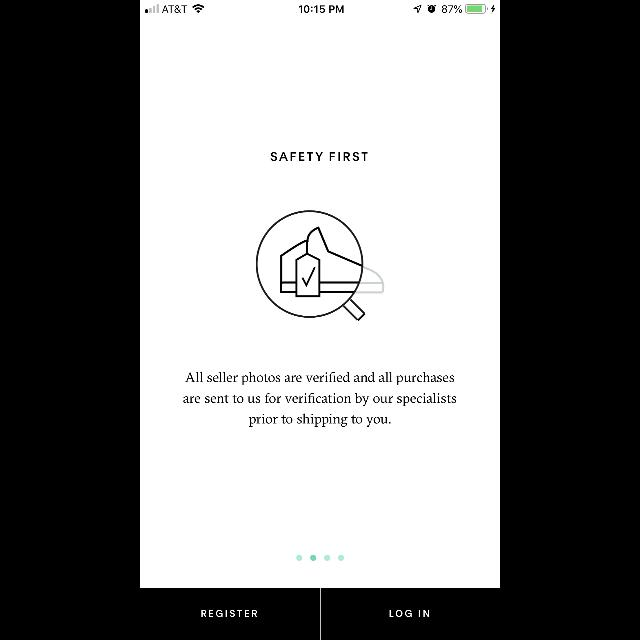image: (256, 210, 384, 322)
pageindicator: (296, 555, 344, 561)
text: (184, 372, 456, 426), (270, 152, 368, 162)
textbutton: (320, 588, 500, 640), (140, 588, 320, 640)
uppertaskbar: (140, 0, 500, 14)
